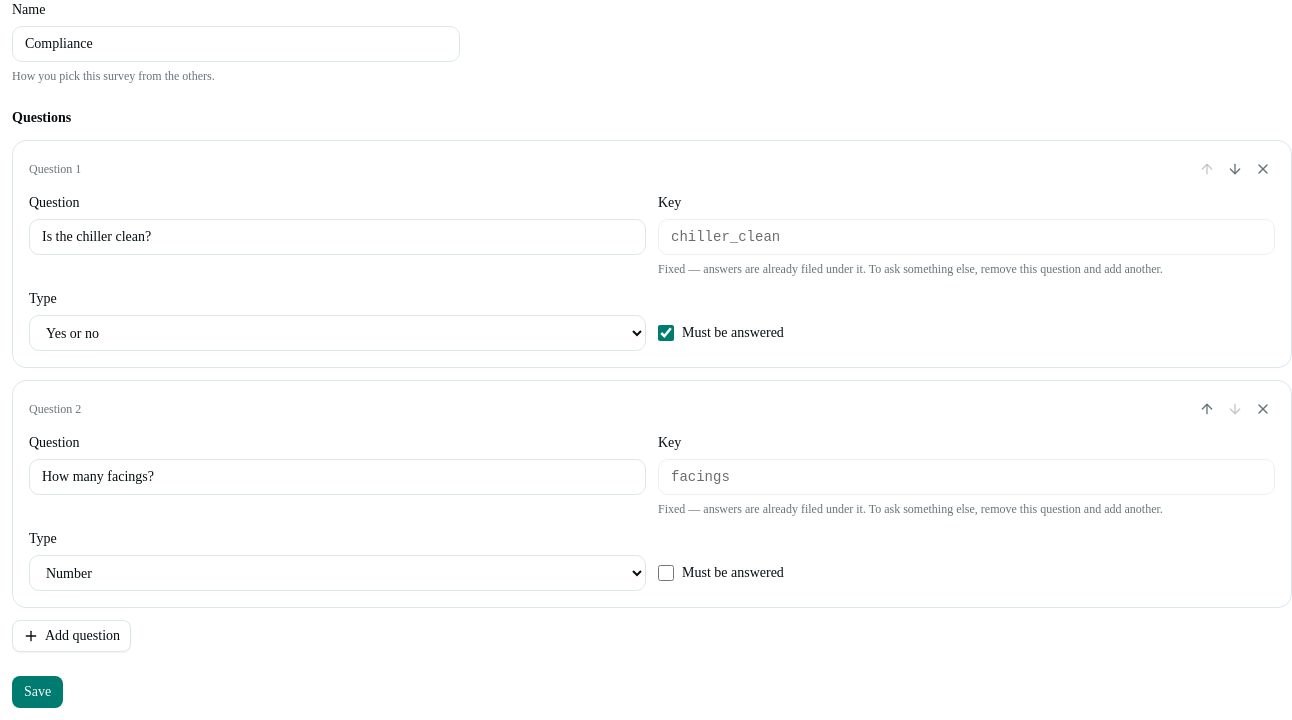
<SurveyEditor> › names a key two questions derived alike, and refuses to save until it is fixed
Click the button "Add question". click: (72, 636)
box: left=12, top=620, right=131, bottom=652
(page scrolled)
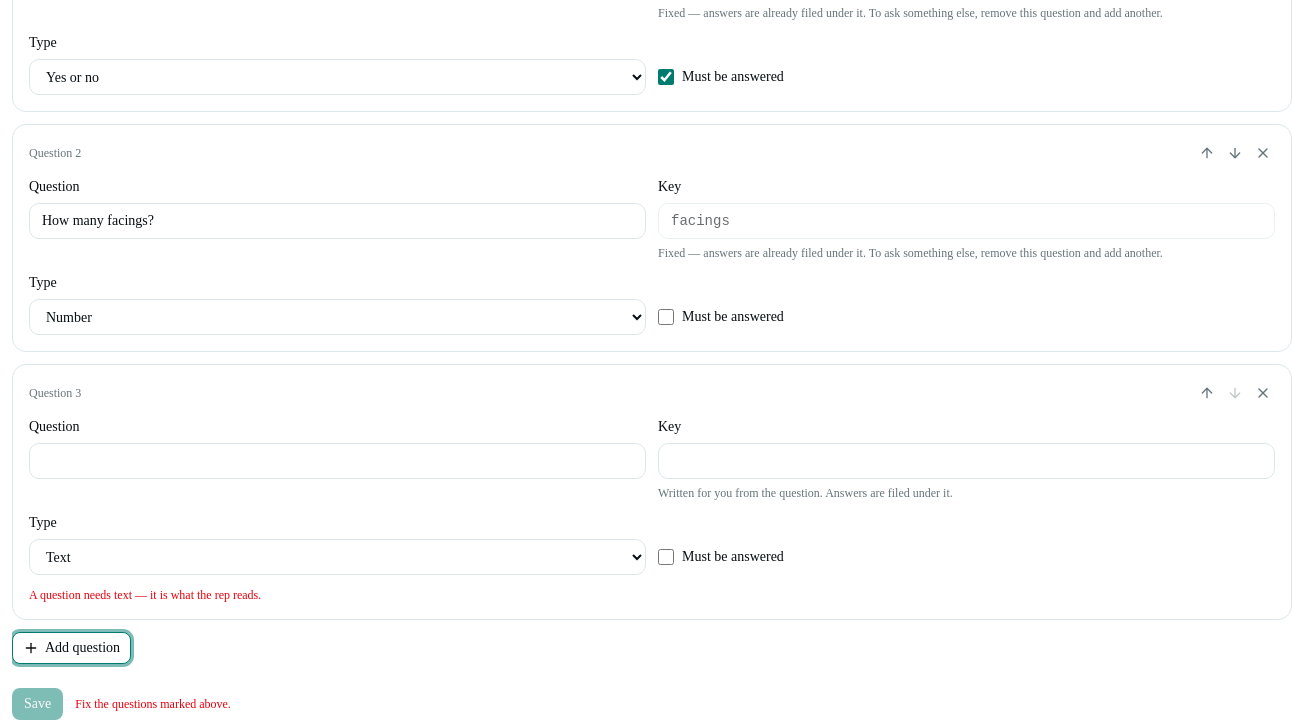
Type "Facings" into the field labelled "Question" below "Question 3". click: (338, 461)
box: left=29, top=443, right=646, bottom=479
(page scrolled)
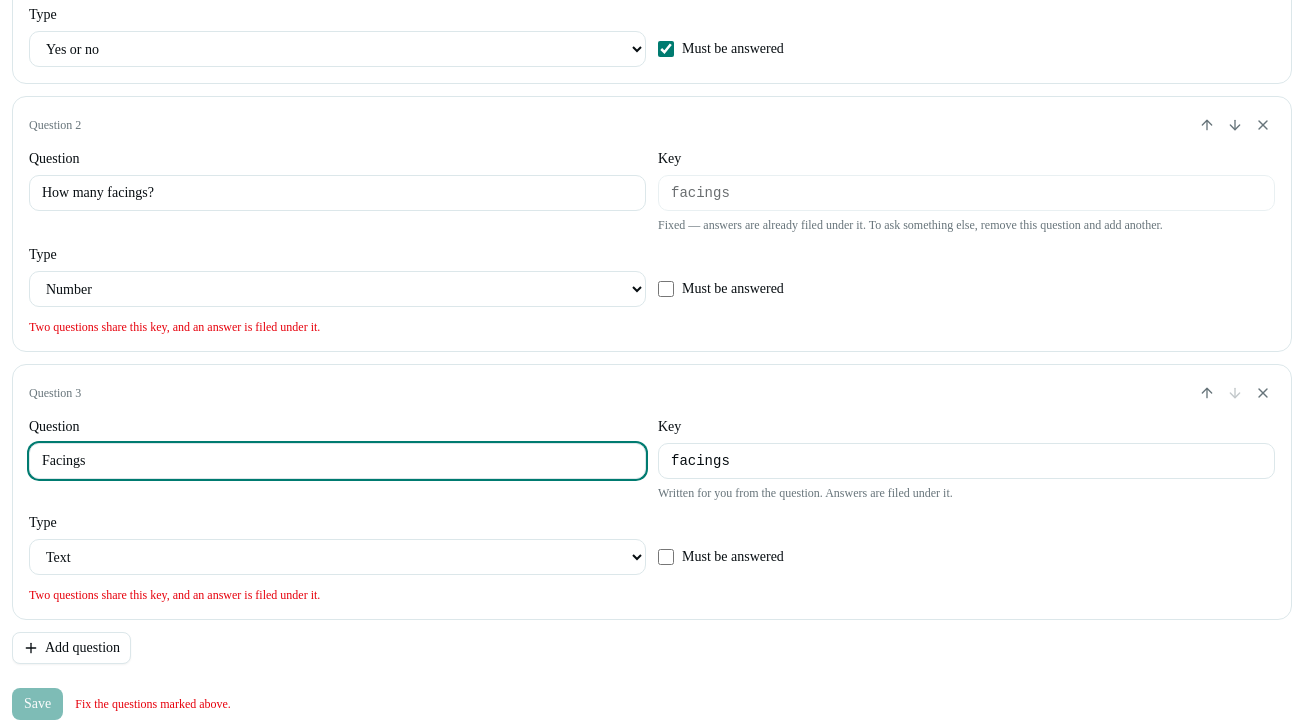
Expected: the button "Save" is disabled, left=12, top=688, right=63, bottom=719
Expected: the text "Two questions share this key" is shown 2 times, left=29, top=320, right=320, bottom=334; left=29, top=588, right=320, bottom=602
